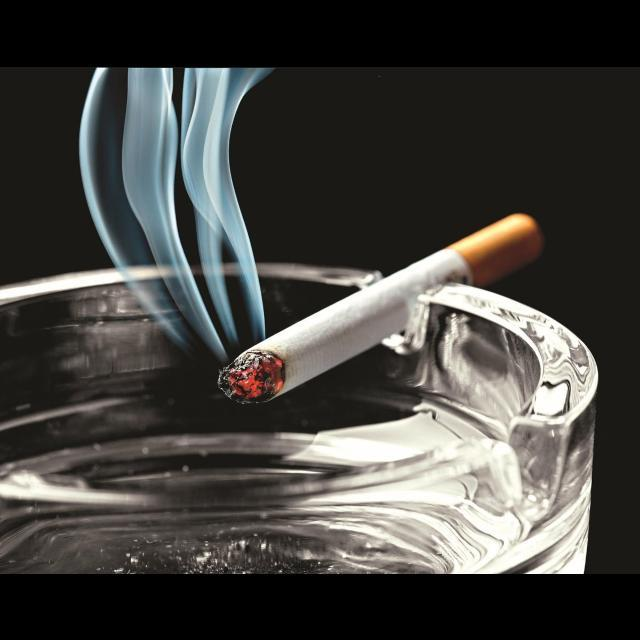rokok: (212, 208, 548, 416)
